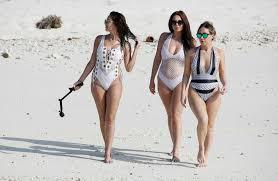Person: (49, 6, 140, 175), (179, 19, 228, 173), (148, 8, 195, 167)
